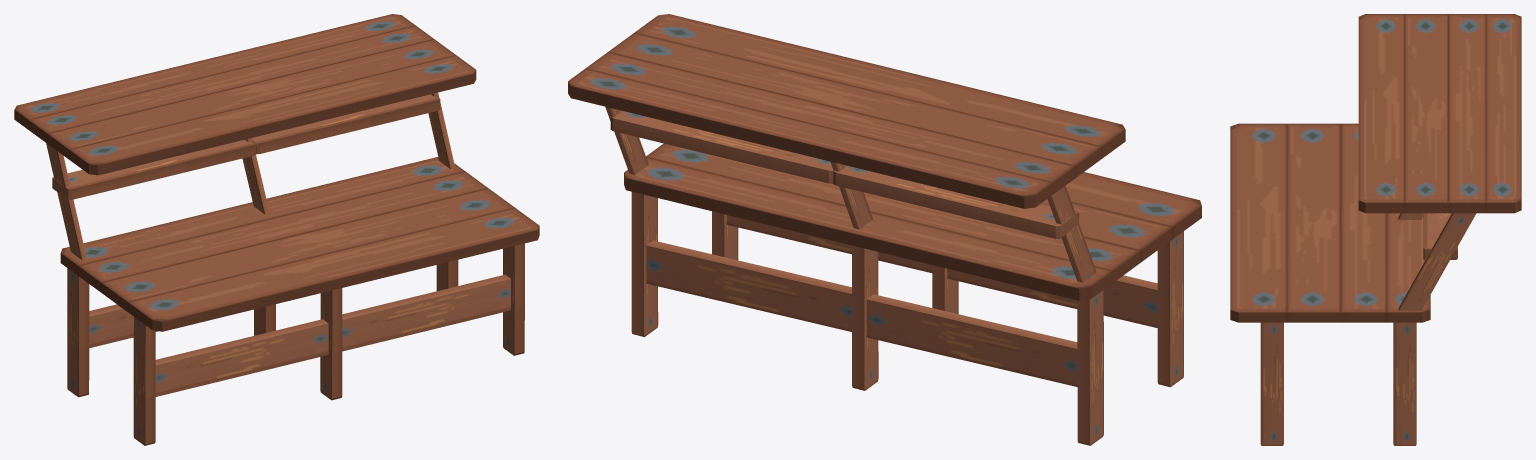
File: woods.fbx
3 renders of one model, left to right at view 1: azimuth 30°, elevation 25°; view 2: azimuth 150°, elevation 25°; view 3: azimuth 270°, elevation 25°, orthographic. The views are drawn at different scales.
Parts seen in each view (by area): view 1: Shelf; view 2: Shelf; view 3: Shelf.
Boxes of the visible parts, x1=… form: Shelf: x1=14, y1=14, x2=539, y2=445; Shelf: x1=568, y1=14, x2=1201, y2=445; Shelf: x1=1230, y1=14, x2=1521, y2=445.
Bounding box in the file's own units: 200 × 130 × 121.
Materials: 1 (1 with a texture image).
